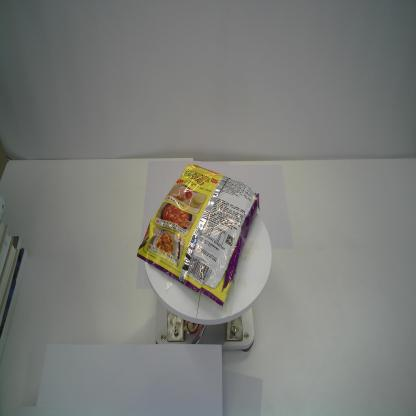Instant Noodles: (136, 163, 260, 309)
